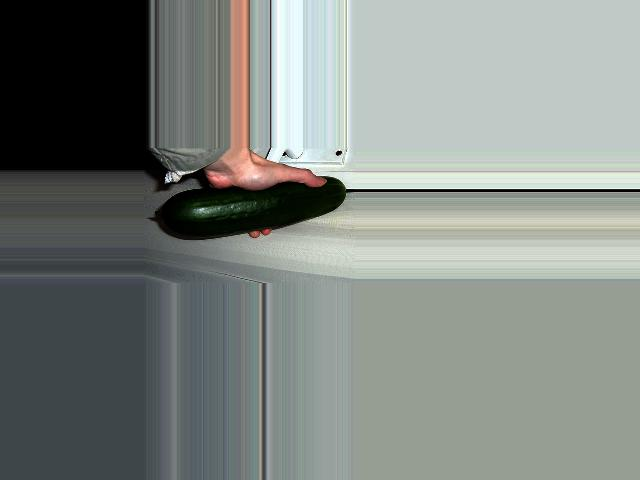cucumber: (155, 177, 346, 240)
